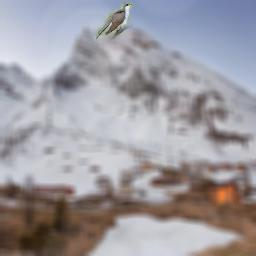Cuckoo: (93, 2, 133, 41)
